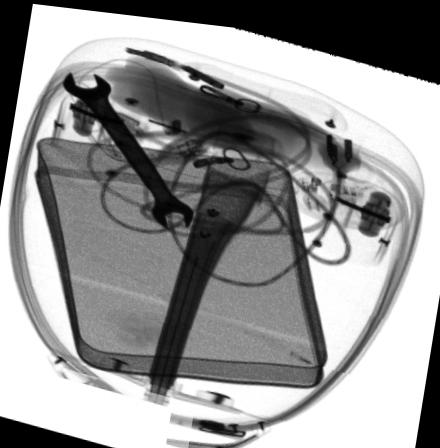Wrench: (62, 70, 194, 226)
